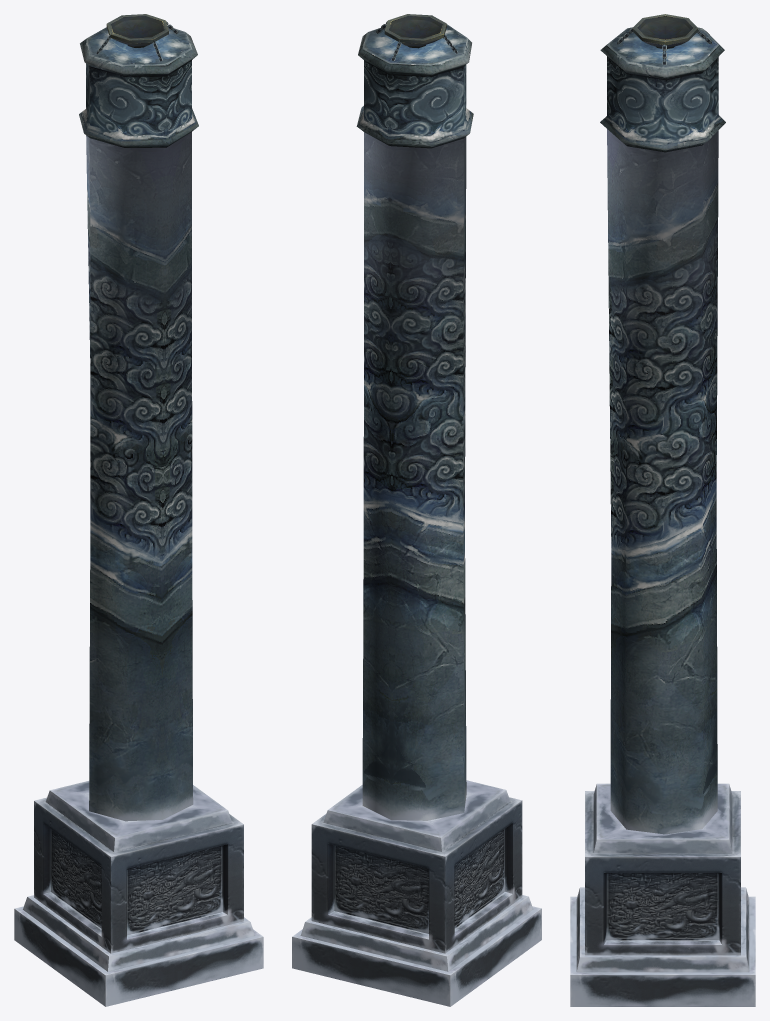
File: BingYingZhong_ShiZhu_1.FBX
3 renders of one model, left to right at view 1: azimuth 30°, elevation 25°; view 2: azimuth 150°, elevation 25°; view 3: azimuth 270°, elevation 25°, orthographic.
Visible parts, largest first — view 1: BingYingZhong_ShiZhu_1, BingYingZhong_ShiZhu_2; view 2: BingYingZhong_ShiZhu_1, BingYingZhong_ShiZhu_2; view 3: BingYingZhong_ShiZhu_1, BingYingZhong_ShiZhu_2.
Part boxes in pixels (box(x1,y1,x2,y2)): BingYingZhong_ShiZhu_1: box(79, 14, 198, 821); BingYingZhong_ShiZhu_2: box(14, 781, 263, 1006); BingYingZhong_ShiZhu_1: box(356, 14, 473, 820); BingYingZhong_ShiZhu_2: box(292, 780, 541, 1006); BingYingZhong_ShiZhu_1: box(600, 14, 725, 834); BingYingZhong_ShiZhu_2: box(570, 783, 755, 1006).
Size of the model in its own units: 271 by 1517 by 271.
